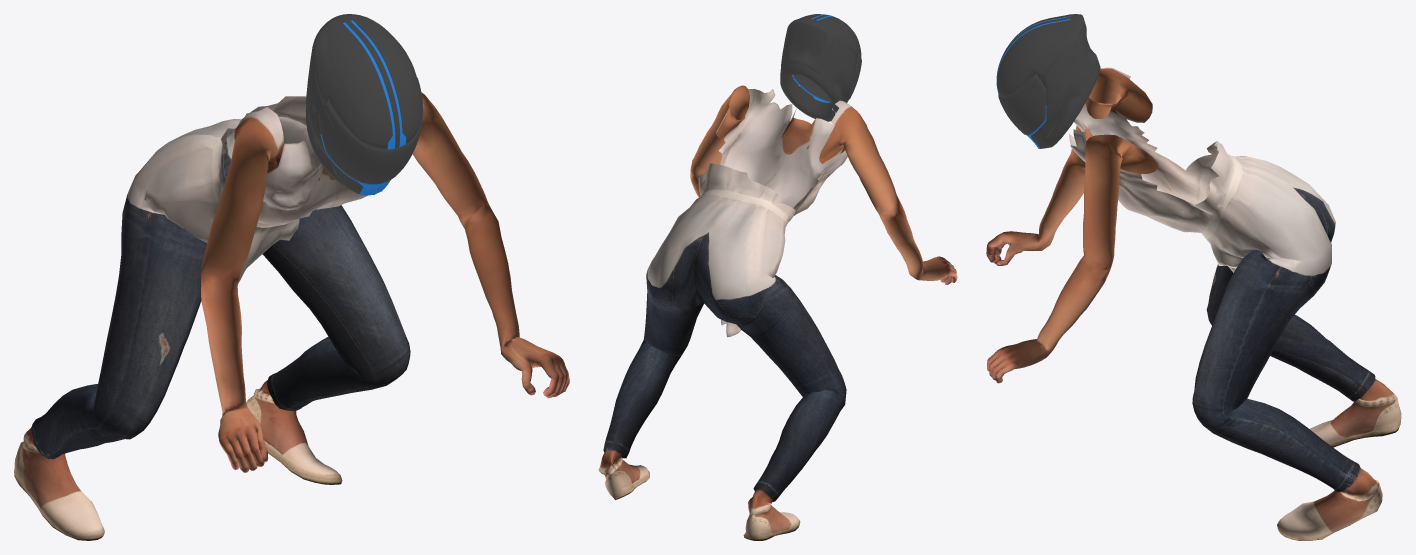
3 renders of one model, left to right at view 1: azimuth 30°, elevation 25°; view 2: azimuth 150°, elevation 25°; view 3: azimuth 270°, elevation 25°, orthographic. The views are drawn at different scales.
Parts seen in each view (by area): view 1: rider, helmet; view 2: rider, helmet; view 3: rider, helmet.
Boxes of the visible parts, left/top/right/bottom form: rider: left=14, top=92, right=569, bottom=540; helmet: left=305, top=14, right=423, bottom=195; rider: left=598, top=85, right=957, bottom=540; helmet: left=780, top=14, right=861, bottom=121; rider: left=986, top=67, right=1401, bottom=540; helmet: left=996, top=14, right=1100, bottom=148.
Size of the model in its own units: 0.7297 by 1.23 by 0.9718.
Materials: 2 (2 with a texture image).
